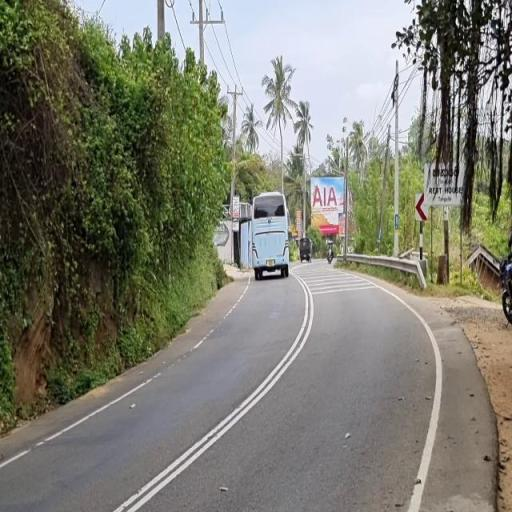double_white_line: (110, 277, 314, 511)
